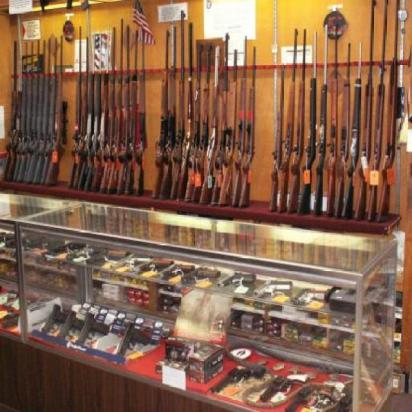Gun: (156, 30, 172, 209)
